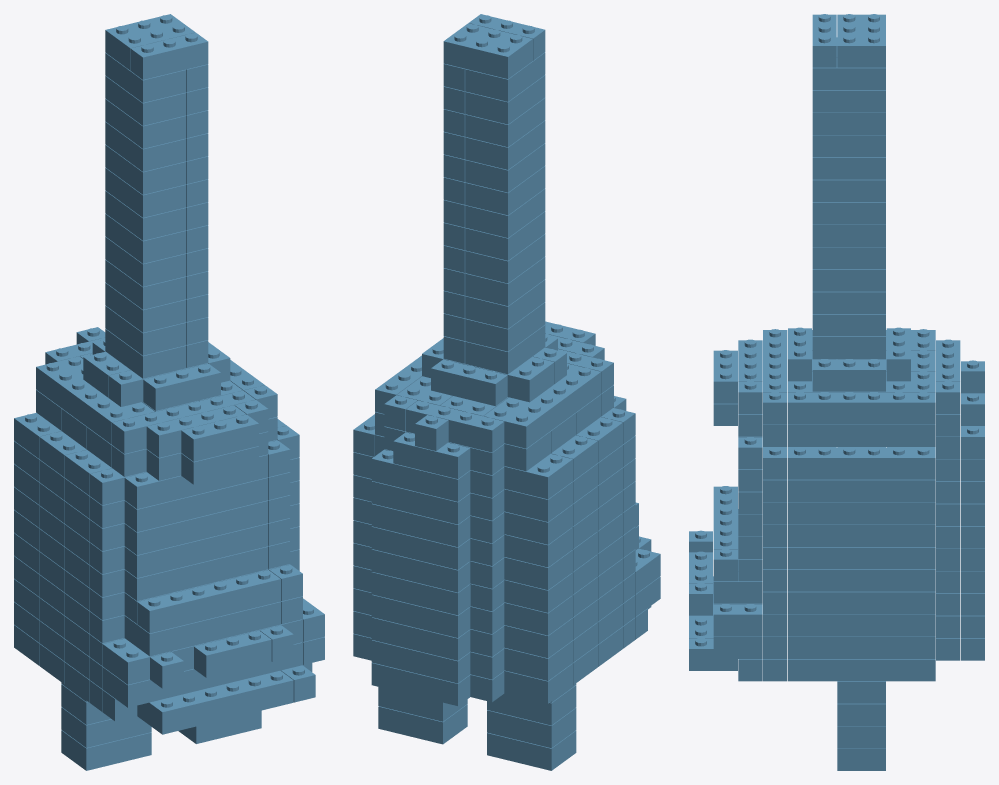
The model's file is 199_piano_L4.glb.
The picture shows the model from 3 angles, left to right: view 1: azimuth 30°, elevation 25°; view 2: azimuth 150°, elevation 25°; view 3: azimuth 270°, elevation 25°; orthographic projection. The views are drawn at different scales.
Size of the model in its own units: 8.98 by 31.13 by 11.98.
